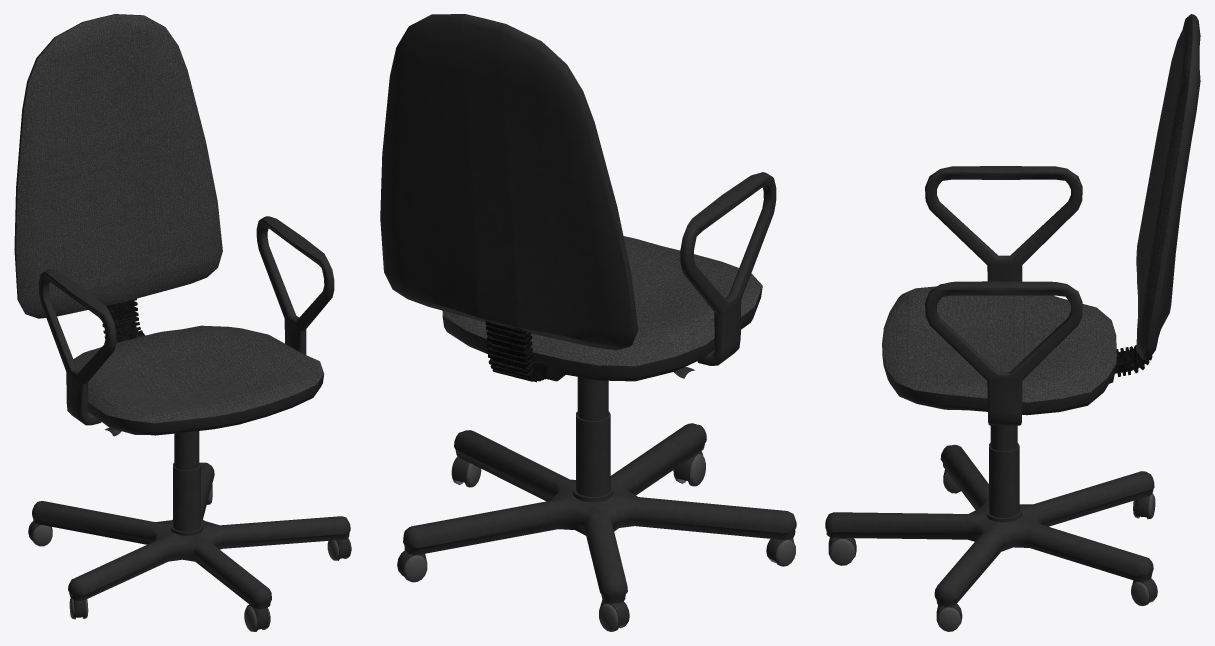
The model's file is Office Chair.fbx.
3 renders of one model, left to right at view 1: azimuth 30°, elevation 25°; view 2: azimuth 150°, elevation 25°; view 3: azimuth 270°, elevation 25°, orthographic. The views are drawn at different scales.
Parts seen in each view (by area): view 1: Office Chair; view 2: Office Chair; view 3: Office Chair.
Part boxes in pixels (x1,y1,x2,y2): Office Chair: (14, 14, 351, 631); Office Chair: (380, 14, 796, 631); Office Chair: (825, 14, 1200, 631).
Bounding box in the file's own units: 0.8703 × 1.49 × 0.9425.
